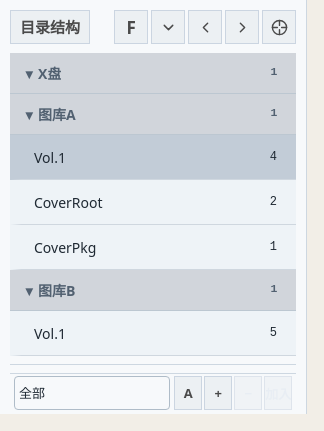
SidebarPanel music interactions › 受控模式下折叠全部后不会被自动展开回去
The width and height of the screenshot is (324, 431).
Click the button named "折叠全部含图父级": (168, 27) [151,10,185,44]
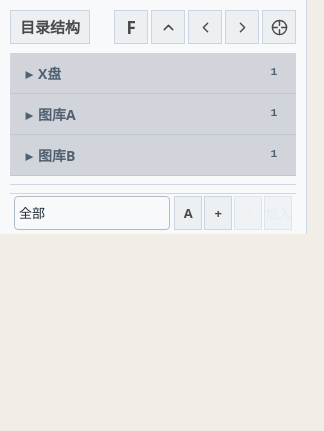
Expected: the button "Vol.1" is gone
Expected: the button "CoverPkg" is gone
